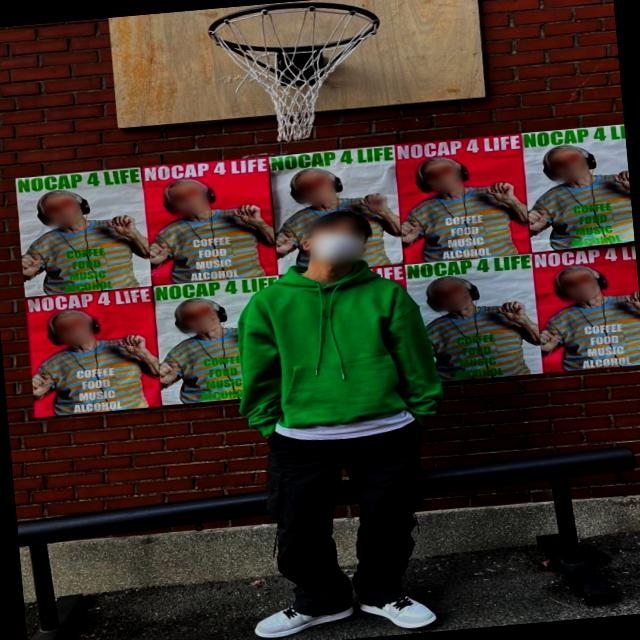cottonpants: (265, 418, 445, 621)
hoodies: (224, 252, 441, 439)
